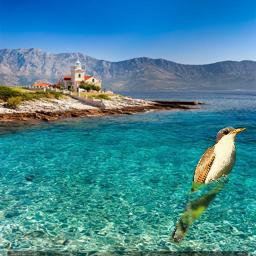Cuckoo: (168, 124, 248, 246)
